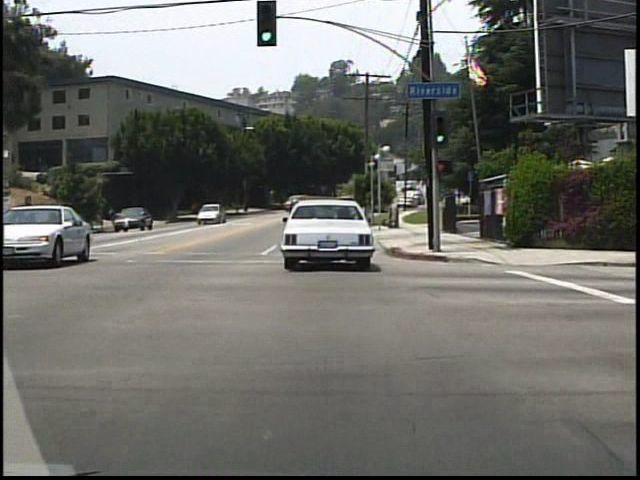person: (109, 206, 120, 229)
